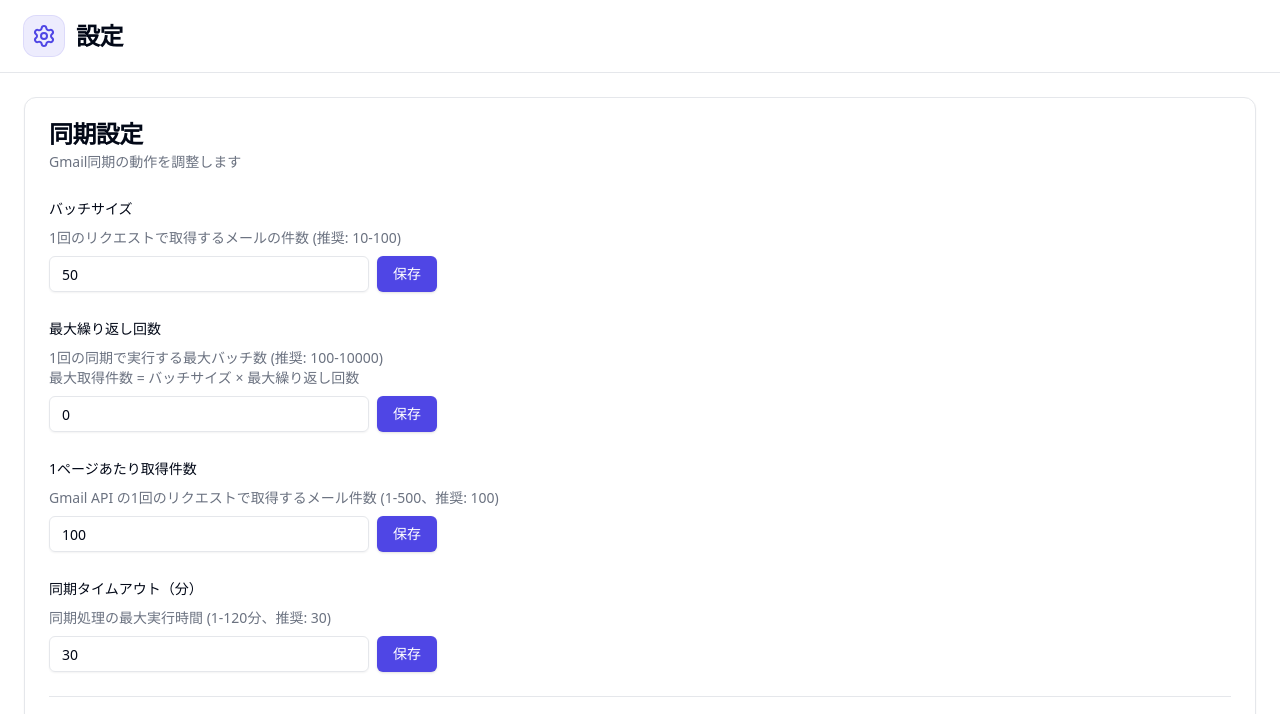
Scenario: Settings › handleSaveMaxIterations › shows validation error for invalid max iterations
The width and height of the screenshot is (1280, 714).
Expected: the number field with id "max-iterations" is shown, x1=49 y1=396 x2=369 y2=432
Click the button with aria-label "最大繰り返し回数を保存": (407, 414) x1=377 y1=396 x2=437 y2=432
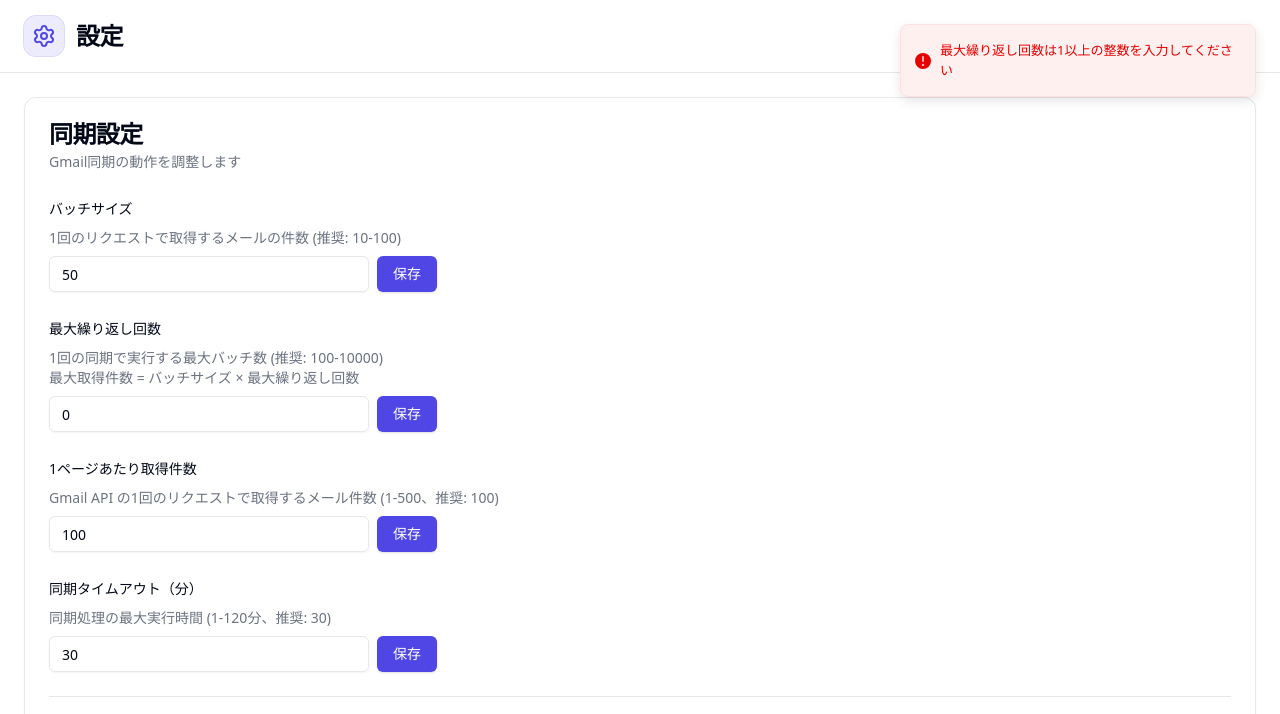
Expected: the text "最大繰り返し回数は1以上の整数を入力してください" is shown, x1=940 y1=41 x2=1239 y2=80
